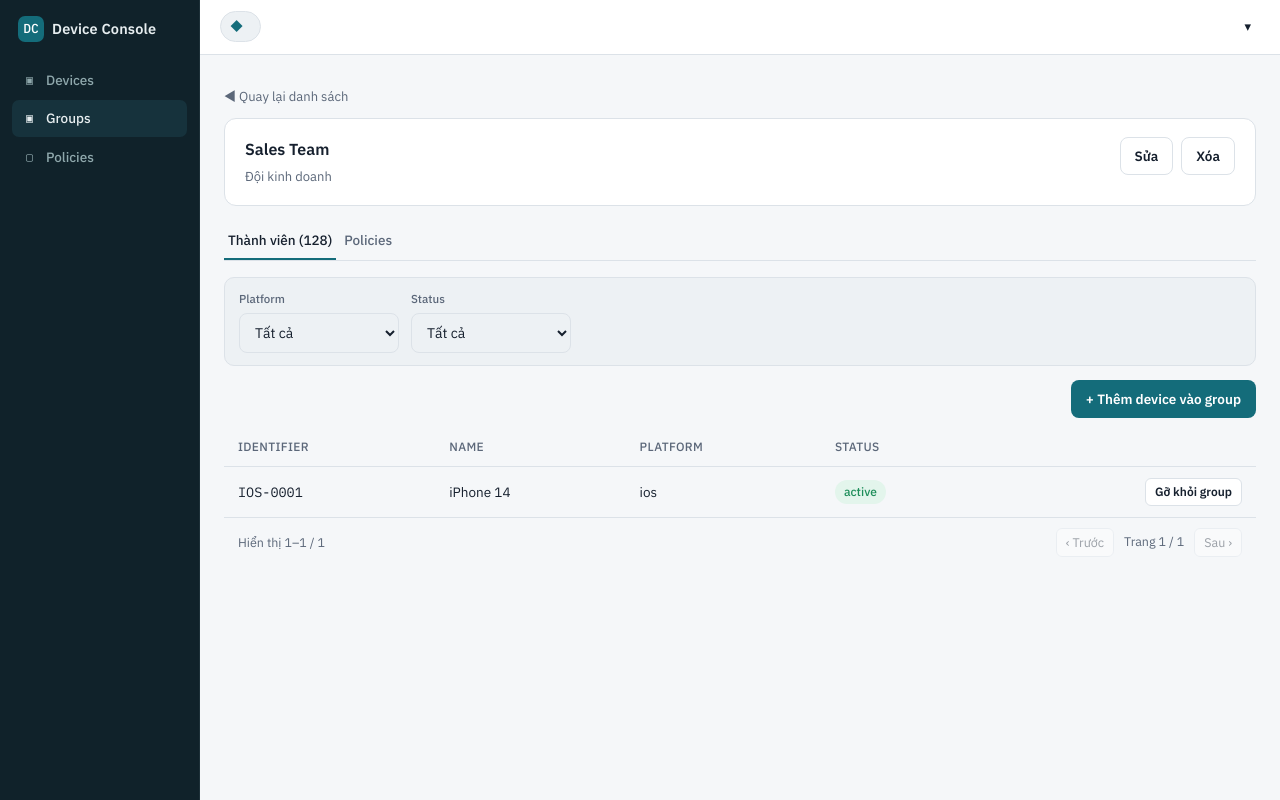
Test: GroupDetailView › header: edit and delete › puts the real device count in the delete confirmation and leaves on success
The width and height of the screenshot is (1280, 800).
Click the button with test id "group-detail-delete-button": (1208, 156) [1181,137,1235,175]
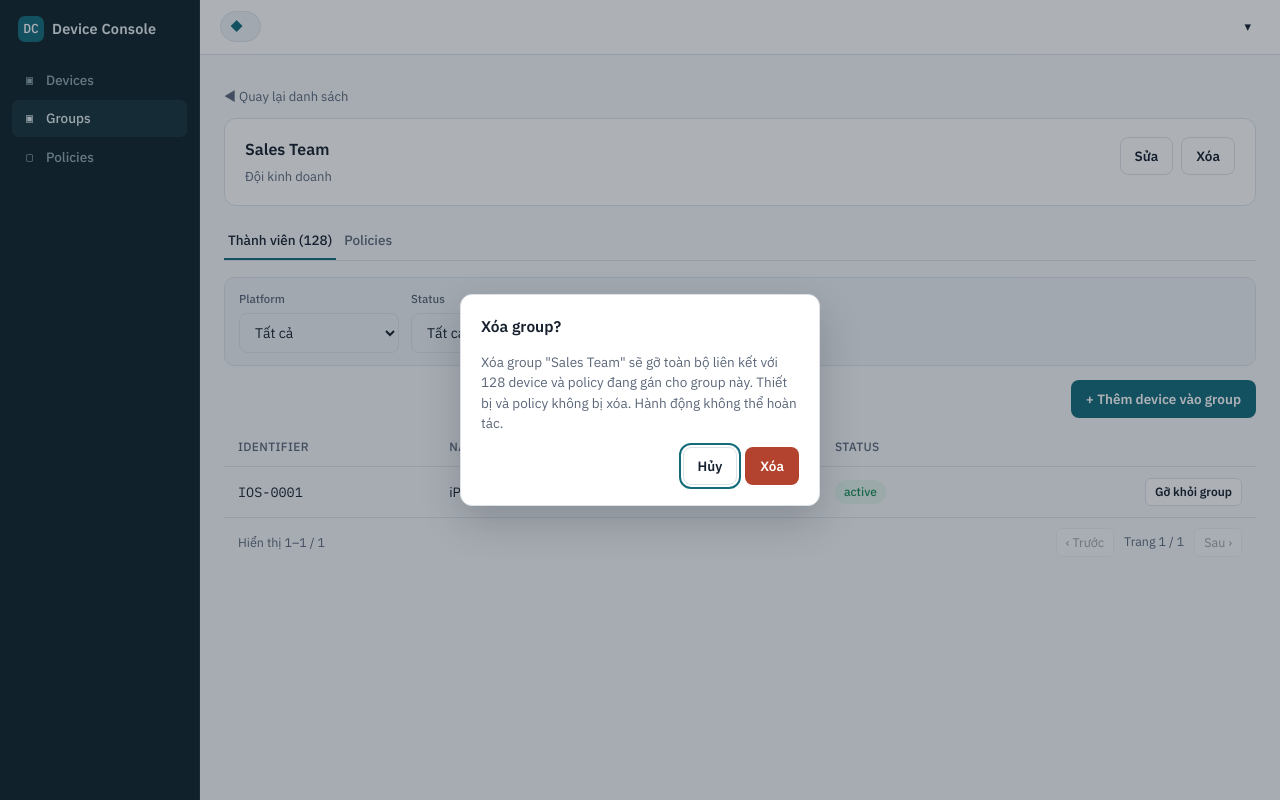
Expected: the dialog with test id "confirm-modal" shows "sẽ gỡ toàn bộ liên kết với 128 device", [481,353,797,432]
Click the button with test id "confirm-modal-confirm": (772, 466) [745,447,799,485]
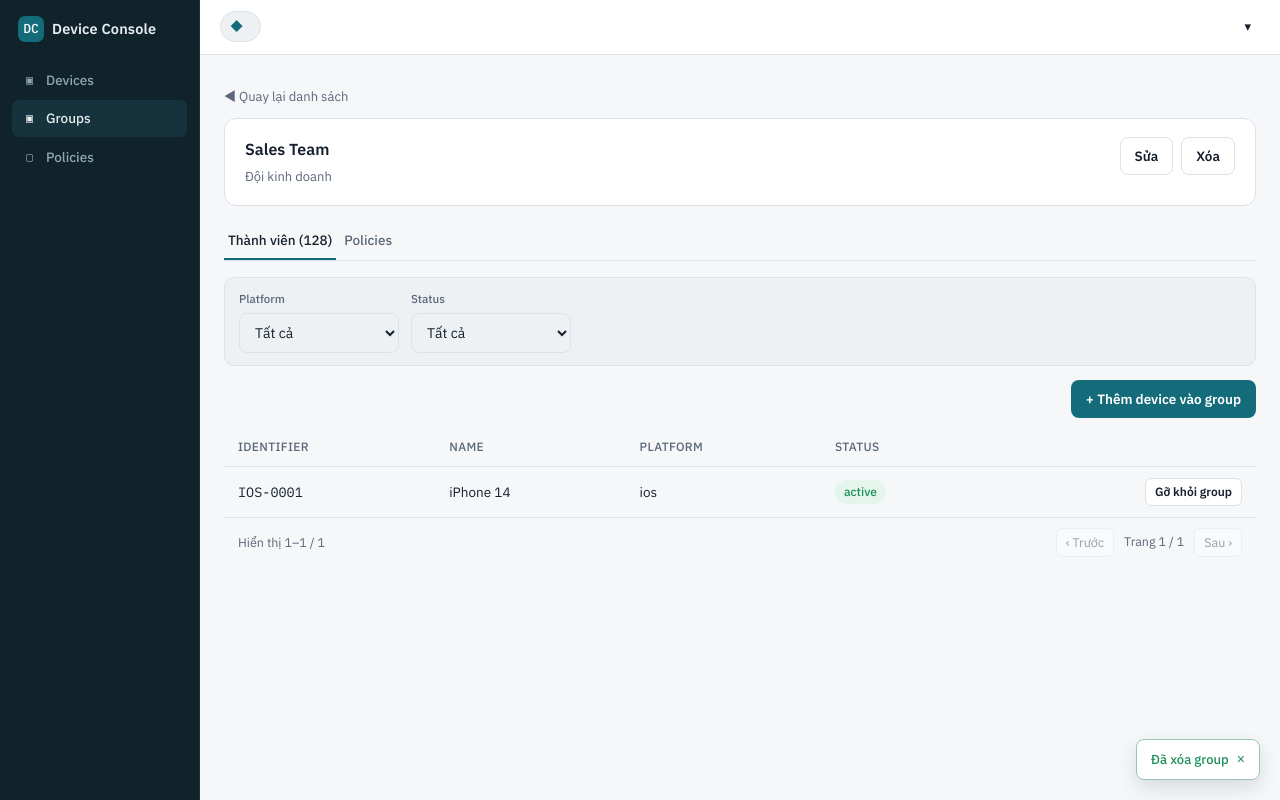
Expected: the element with test id "toast" shows "Đã xóa group", [1151,750,1229,768]
